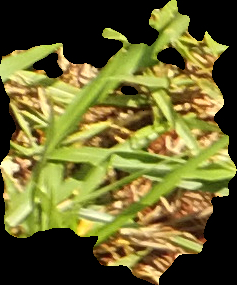grass: (1, 1, 236, 284)
